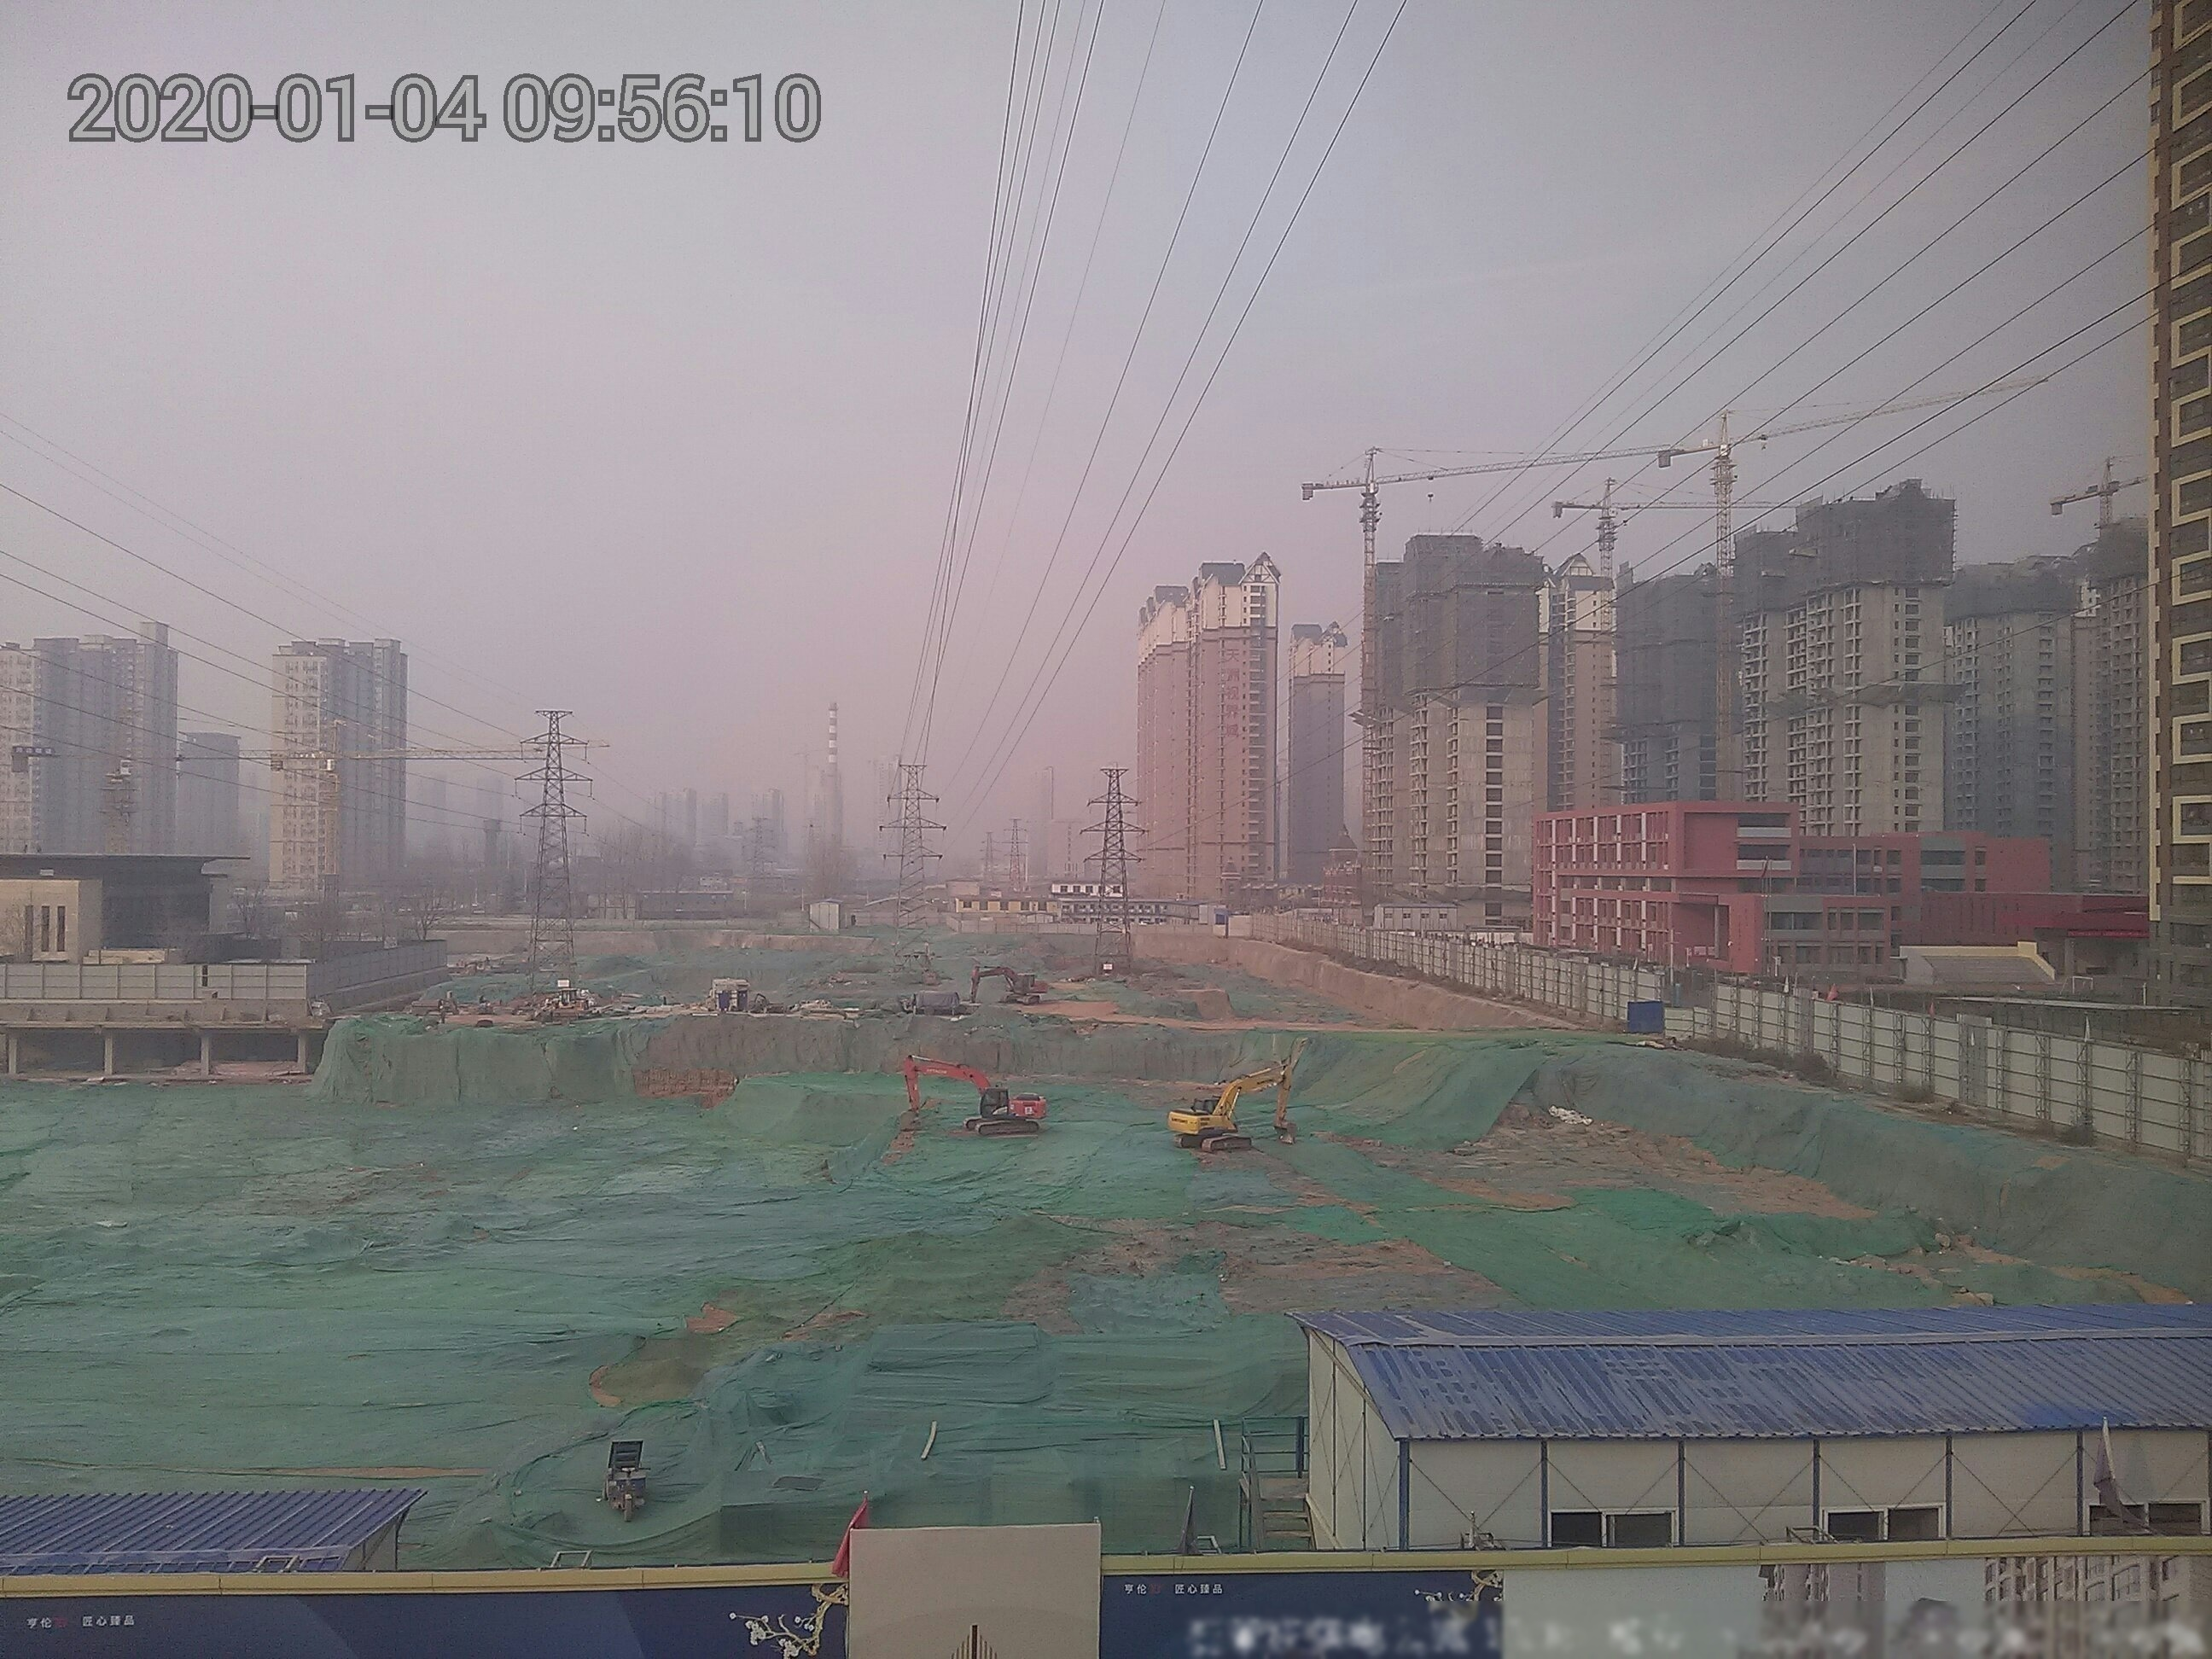gouche: (897, 1037, 1064, 1154), (1160, 1060, 1312, 1161)
tadiao: (1303, 444, 1531, 511)
